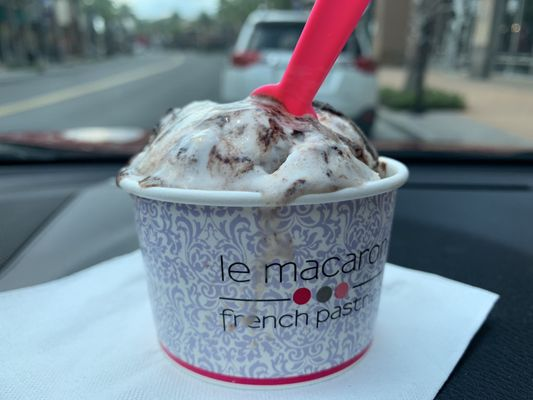pizza: (119, 153, 408, 389)
